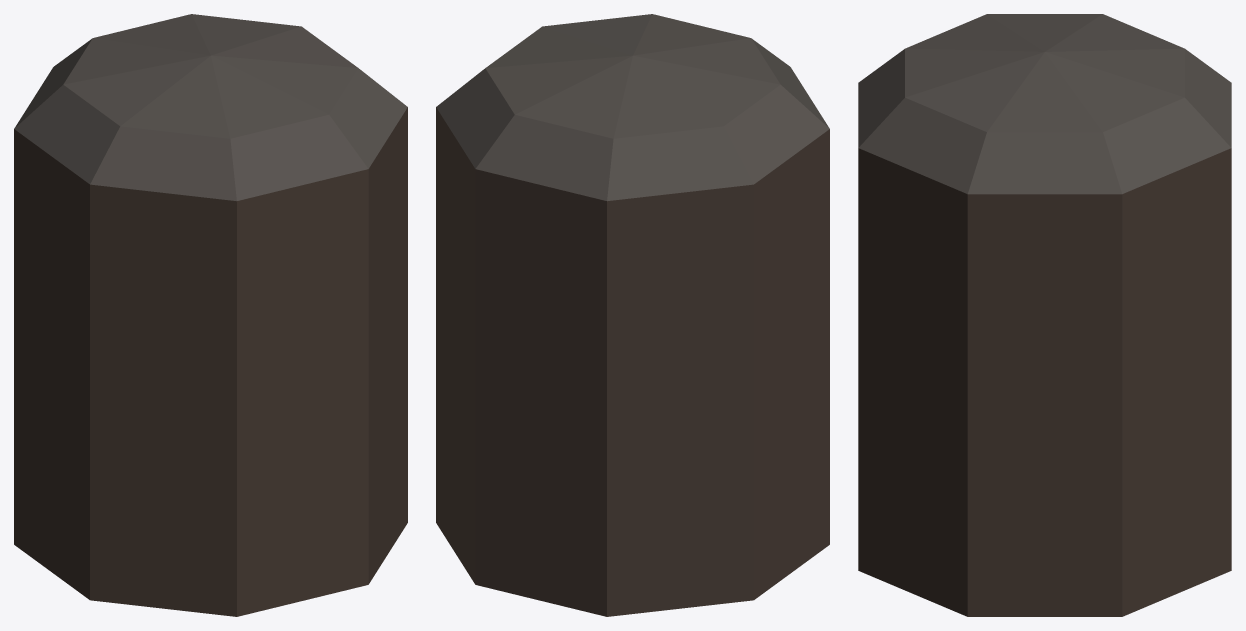
File: tank.gltf
The picture shows the model from 3 angles, left to right: view 1: azimuth 30°, elevation 25°; view 2: azimuth 150°, elevation 25°; view 3: azimuth 270°, elevation 25°; orthographic projection.
Parts seen in each view (by area): view 1: cylinder; view 2: cylinder; view 3: cylinder.
Boxes of the visible parts, x1,y1,x2,y2 form: cylinder: [14, 14, 407, 616]; cylinder: [436, 14, 829, 616]; cylinder: [858, 14, 1231, 616].
Bounding box in the file's own units: 1 × 1.44 × 1.
Materials: 1 (1 with a texture image).
